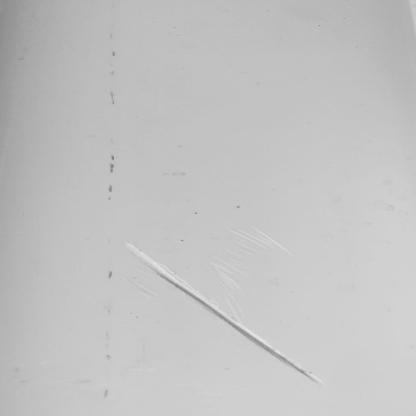sunshang: (128, 247, 318, 382)
